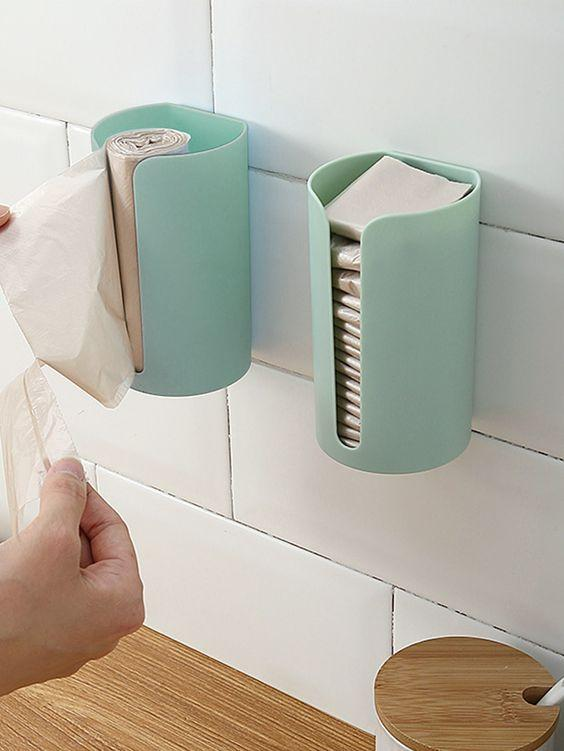HDPE: (305, 149, 483, 476), (86, 103, 254, 398)
